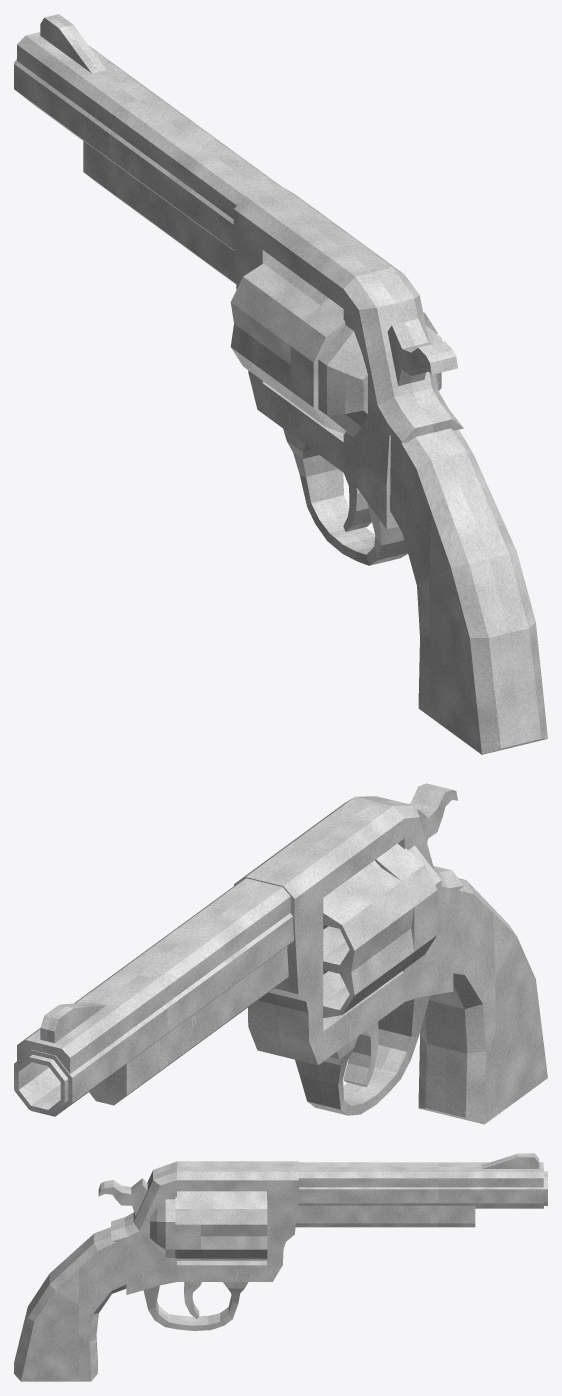
File: pistol2.obj
The picture shows the model from 3 angles, top to bottom: view 1: azimuth 30°, elevation 25°; view 2: azimuth 150°, elevation 25°; view 3: azimuth 270°, elevation 25°; orthographic projection. The views are drawn at different scales.
Visible parts, largest first — view 1: Revolver_1_Cube.051; view 2: Revolver_1_Cube.051; view 3: Revolver_1_Cube.051.
Part boxes in pixels (x1=…): Revolver_1_Cube.051: x1=14, y1=14, x2=547, y2=754; Revolver_1_Cube.051: x1=14, y1=783, x2=547, y2=1124; Revolver_1_Cube.051: x1=14, y1=1153, x2=547, y2=1381.
Size of the model in its own units: 0.0883 by 0.2669 by 0.5946.
3 materials, 3 textured.
